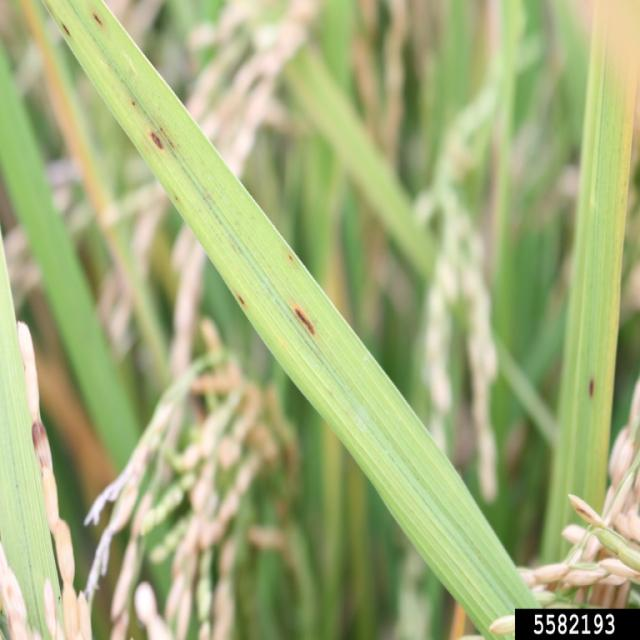Brown spot: (290, 290, 324, 344), (146, 125, 172, 158), (231, 286, 255, 318), (55, 16, 77, 50), (89, 3, 112, 34), (163, 182, 187, 210), (589, 366, 600, 406), (280, 242, 294, 272), (124, 95, 140, 114)
